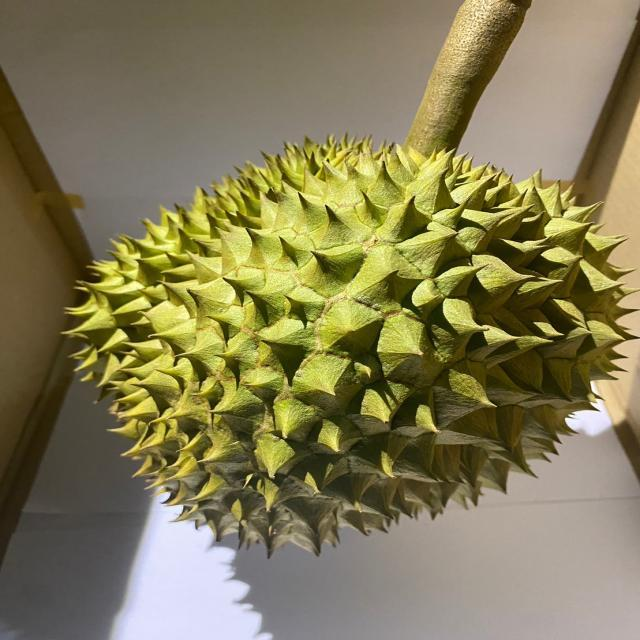immature: (56, 133, 640, 561)
